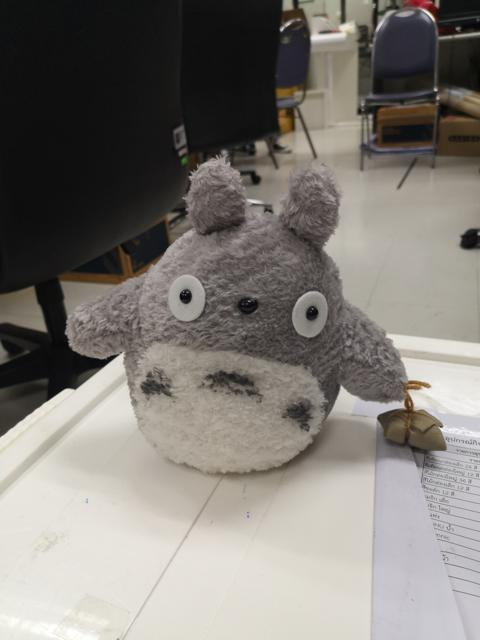totoro: (63, 151, 449, 487)
